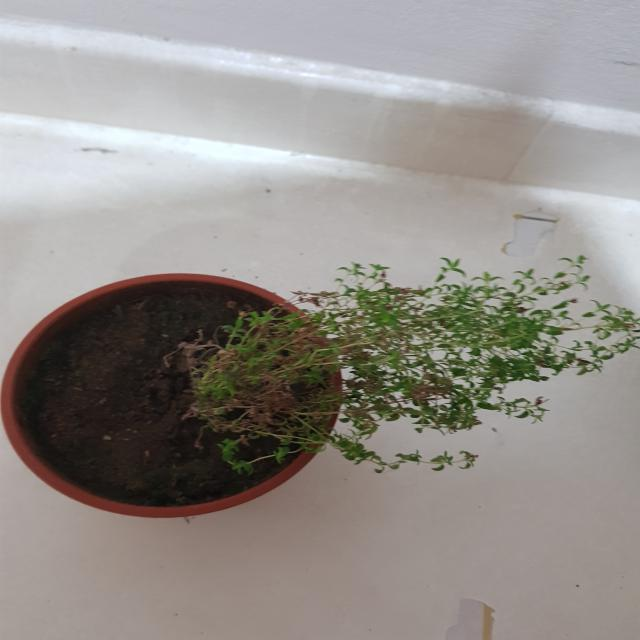Thyme: (128, 229, 640, 477)
